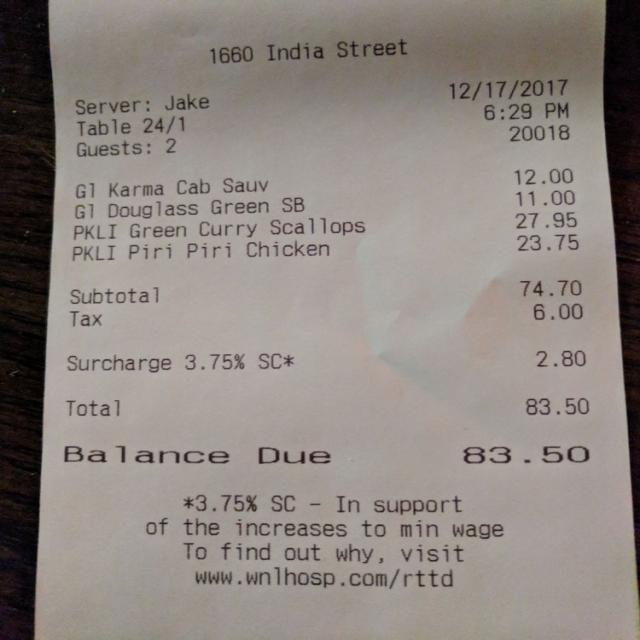kertas: (37, 0, 637, 640)
